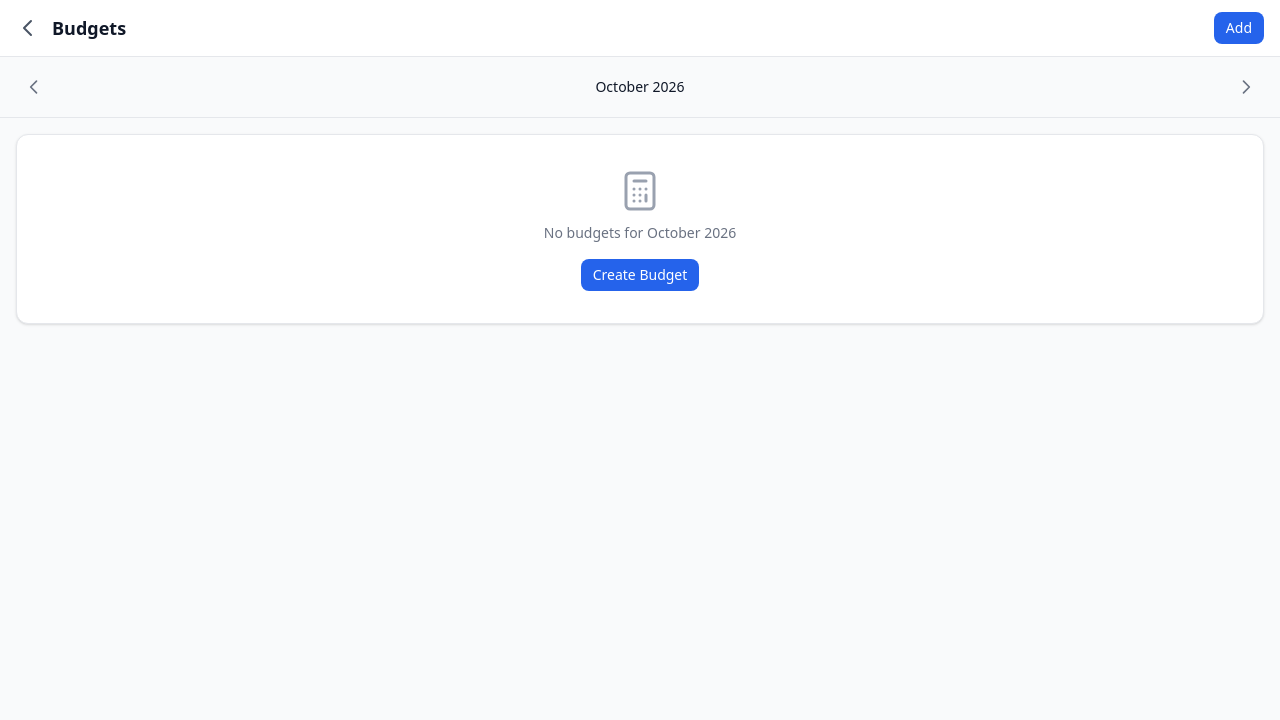
Test: BudgetsPage › Add Budget modal › closes modal on Cancel
Click the button "Add": (1239, 28) x1=1214 y1=12 x2=1264 y2=44
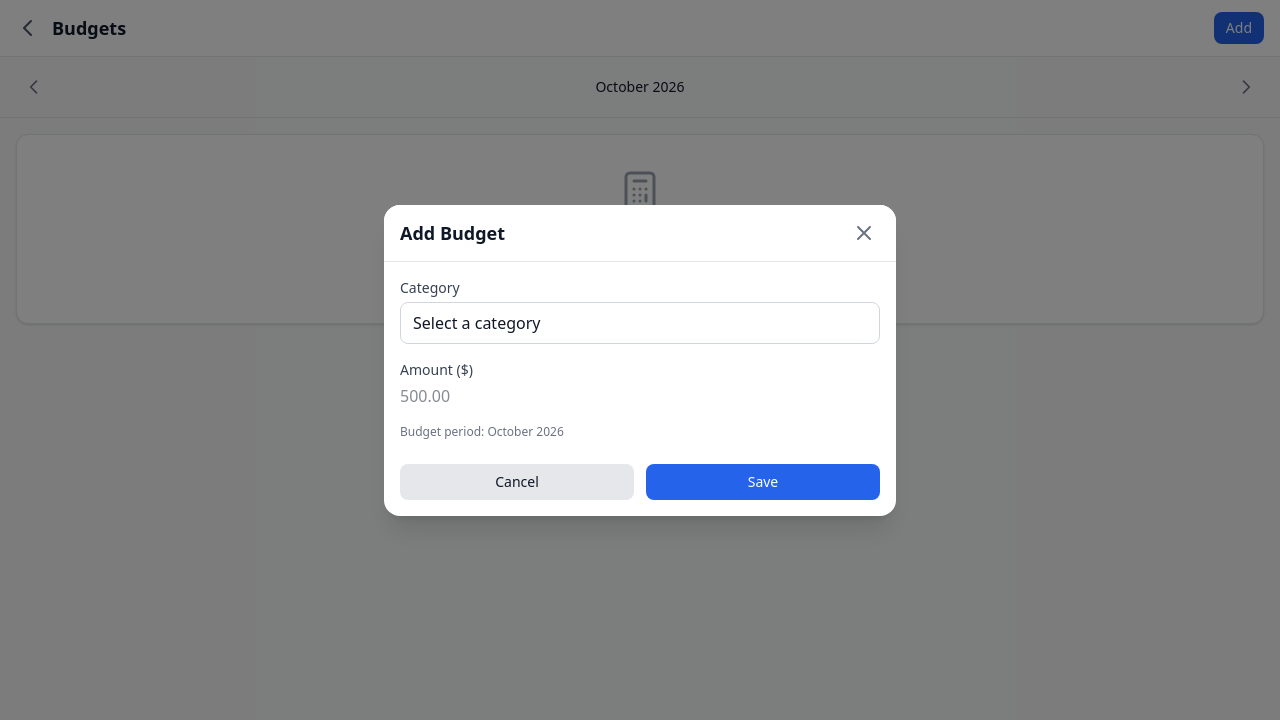
Click the button "Cancel": (517, 482) x1=400 y1=464 x2=634 y2=500
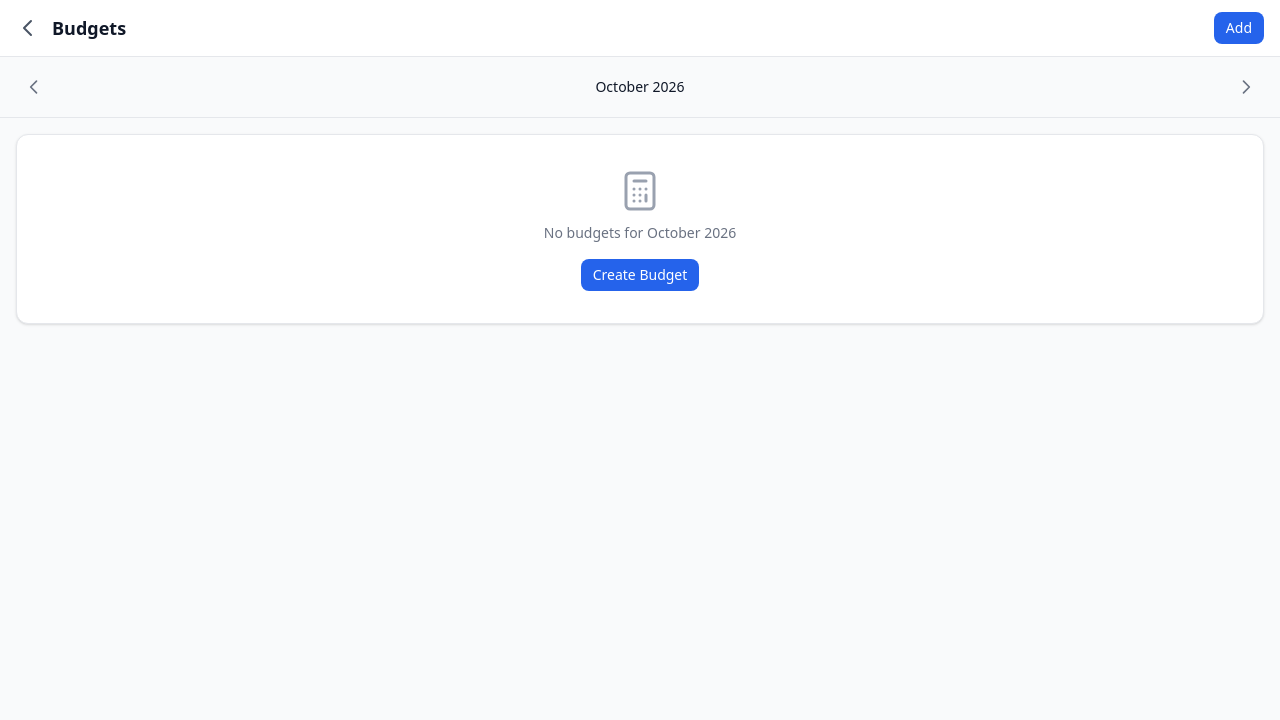
Result: the dialog is gone
